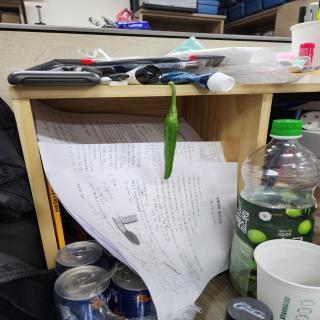Cabai Hijau: (157, 75, 194, 204)
